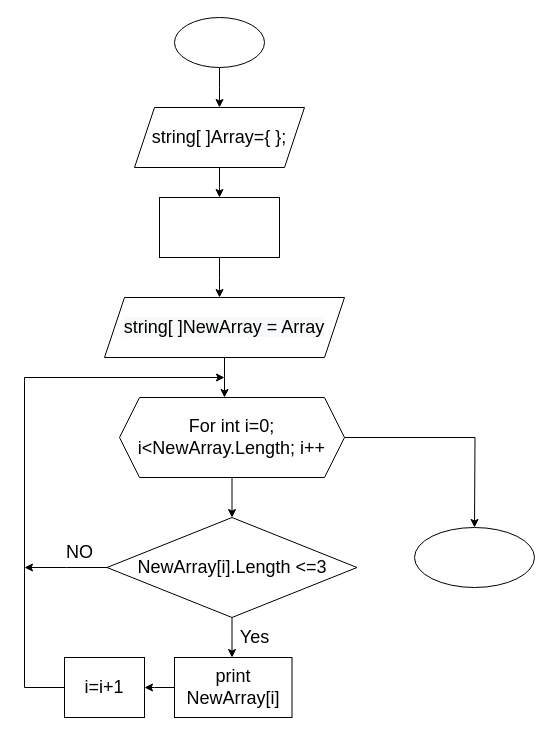
This 552x735 diagram has some shape labels left out. Each missing label, with the box of its shape:
End: (414, 526, 534, 588)
Print Array;: (158, 196, 280, 258)
Start: (174, 16, 264, 68)
